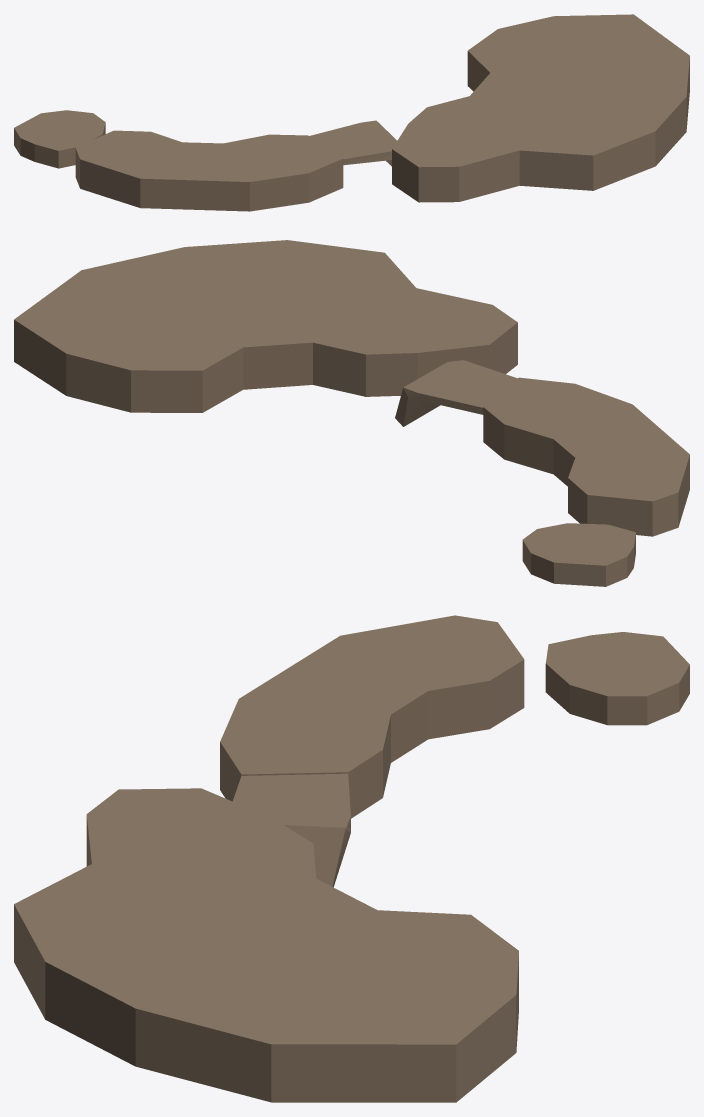
Rendered from Plateformes Rock (1).fbx.
The picture shows the model from 3 angles, top to bottom: view 1: azimuth 30°, elevation 25°; view 2: azimuth 150°, elevation 25°; view 3: azimuth 270°, elevation 25°; orthographic projection. The views are drawn at different scales.
Visible parts, largest first — view 1: PolyShape__6_, PolyShape__4_, PolyShape__3_, PolyShape__5_; view 2: PolyShape__6_, PolyShape__4_, PolyShape__3_, PolyShape__5_; view 3: PolyShape__6_, PolyShape__4_, PolyShape__3_, PolyShape__5_.
Part boxes in pixels (x1=…): PolyShape__6_: x1=392, y1=14, x2=689, y2=202; PolyShape__4_: x1=75, y1=130, x2=343, y2=211; PolyShape__3_: x1=14, y1=110, x2=105, y2=168; PolyShape__5_: x1=309, y1=120, x2=397, y2=166; PolyShape__6_: x1=14, y1=240, x2=517, y2=412; PolyShape__4_: x1=483, y1=377, x2=689, y2=536; PolyShape__3_: x1=522, y1=523, x2=635, y2=586; PolyShape__5_: x1=395, y1=360, x2=517, y2=426; PolyShape__6_: x1=14, y1=788, x2=518, y2=1102; PolyShape__4_: x1=220, y1=615, x2=524, y2=818; PolyShape__3_: x1=545, y1=632, x2=689, y2=725; PolyShape__5_: x1=232, y1=773, x2=350, y2=887.
Size of the model in its own units: 10001 by 805 by 6330.
